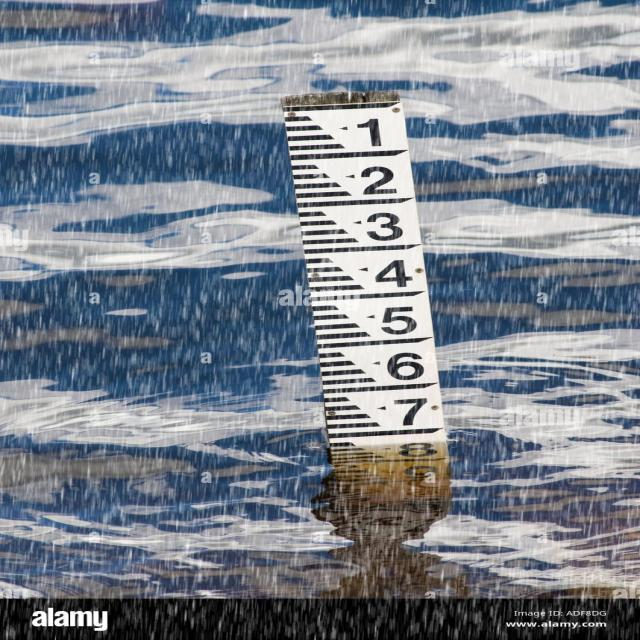ruler: (276, 88, 470, 458)
value: (360, 207, 414, 250), (373, 302, 427, 341), (382, 346, 434, 384), (353, 161, 405, 199), (366, 255, 418, 292), (388, 392, 437, 431), (349, 112, 394, 153)
